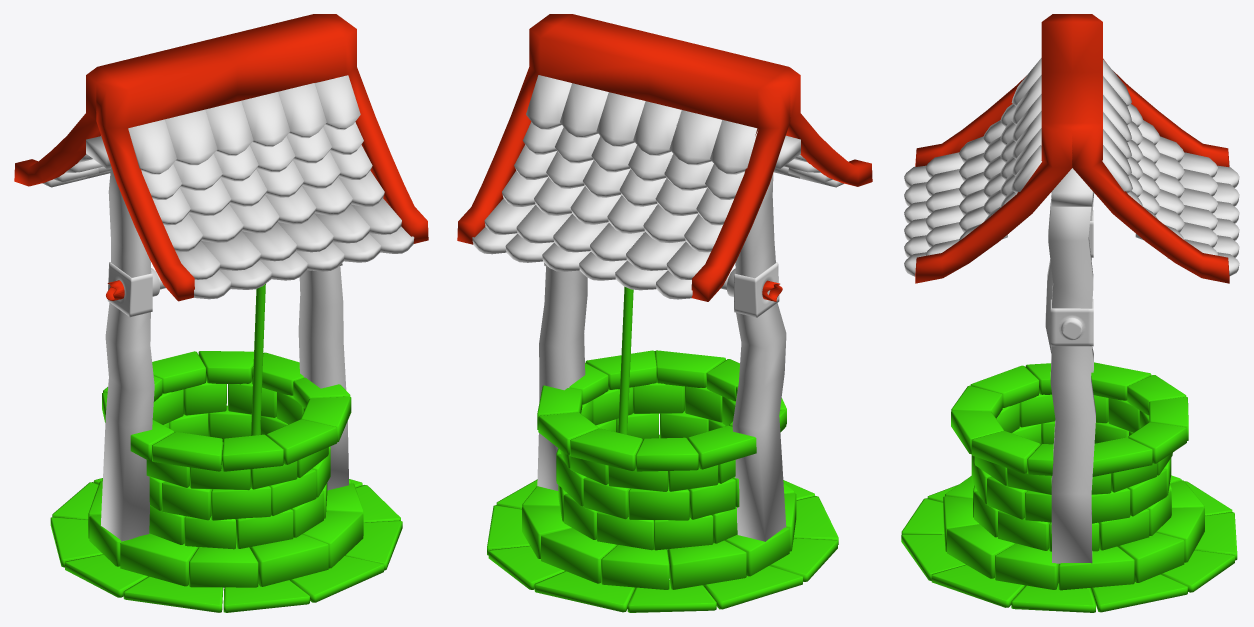
The model's file is TestwhellTop.fbx.
3 renders of one model, left to right at view 1: azimuth 30°, elevation 25°; view 2: azimuth 150°, elevation 25°; view 3: azimuth 270°, elevation 25°, orthographic. The views are drawn at different scales.
Visible parts, largest first — view 1: Cube.005, Cube.009, Cube.006, Cube.061, Cube.064, Cube.014, Cube.026, Cube.039, Cube.046, Grid, Cylinder.002, Cube.008; view 2: Cube.008, Cube.009, Cube.006, Cube.061, Cube.064, Cube.014, Cube.026, Cube.039, Cube.046, Grid, Cylinder.002, Cube.005; view 3: Cube.009, Cube.061, Cube.006, Cube.005, Cube.008, Cube.014, Cube.064, Cube.026, Cube.039, Cube.046, Grid, Cube.007.
Boxes of the visible parts, left/top/right/bottom form: Cube.005: left=128, top=75, right=414, bottom=299; Cube.009: left=14, top=14, right=428, bottom=301; Cube.006: left=101, top=168, right=348, bottom=541; Cube.061: left=102, top=351, right=351, bottom=471; Cube.064: left=50, top=478, right=402, bottom=612; Cube.014: left=88, top=479, right=363, bottom=587; Cube.026: left=149, top=405, right=330, bottom=520; Cube.039: left=146, top=381, right=328, bottom=490; Cube.046: left=149, top=442, right=327, bottom=549; Grid: left=107, top=262, right=342, bottom=317; Cylinder.002: left=251, top=284, right=265, bottom=435; Cube.008: left=42, top=154, right=110, bottom=187; Cube.008: left=472, top=75, right=757, bottom=299; Cube.009: left=457, top=14, right=872, bottom=301; Cube.006: left=537, top=173, right=786, bottom=541; Cube.061: left=537, top=350, right=786, bottom=471; Cube.064: left=487, top=479, right=838, bottom=612; Cube.014: left=522, top=483, right=796, bottom=589; Cube.026: left=556, top=411, right=739, bottom=520; Cube.039: left=558, top=382, right=735, bottom=491; Cube.046: left=558, top=434, right=737, bottom=550; Grid: left=544, top=262, right=779, bottom=317; Cylinder.002: left=618, top=286, right=633, bottom=434; Cube.005: left=773, top=154, right=843, bottom=187; Cube.009: left=915, top=14, right=1229, bottom=283; Cube.061: left=951, top=362, right=1188, bottom=476; Cube.006: left=1045, top=191, right=1095, bottom=563; Cube.005: left=904, top=58, right=1041, bottom=276; Cube.008: left=1102, top=59, right=1239, bottom=275; Cube.014: left=943, top=475, right=1204, bottom=590; Cube.064: left=901, top=479, right=1237, bottom=612; Cube.026: left=971, top=421, right=1171, bottom=523; Cube.039: left=974, top=393, right=1172, bottom=494; Cube.046: left=973, top=484, right=1171, bottom=551; Grid: left=1050, top=210, right=1093, bottom=346; Cube.007: left=1052, top=168, right=1094, bottom=206.
Bounding box in the file's own units: 1693 × 2571 × 1687.
